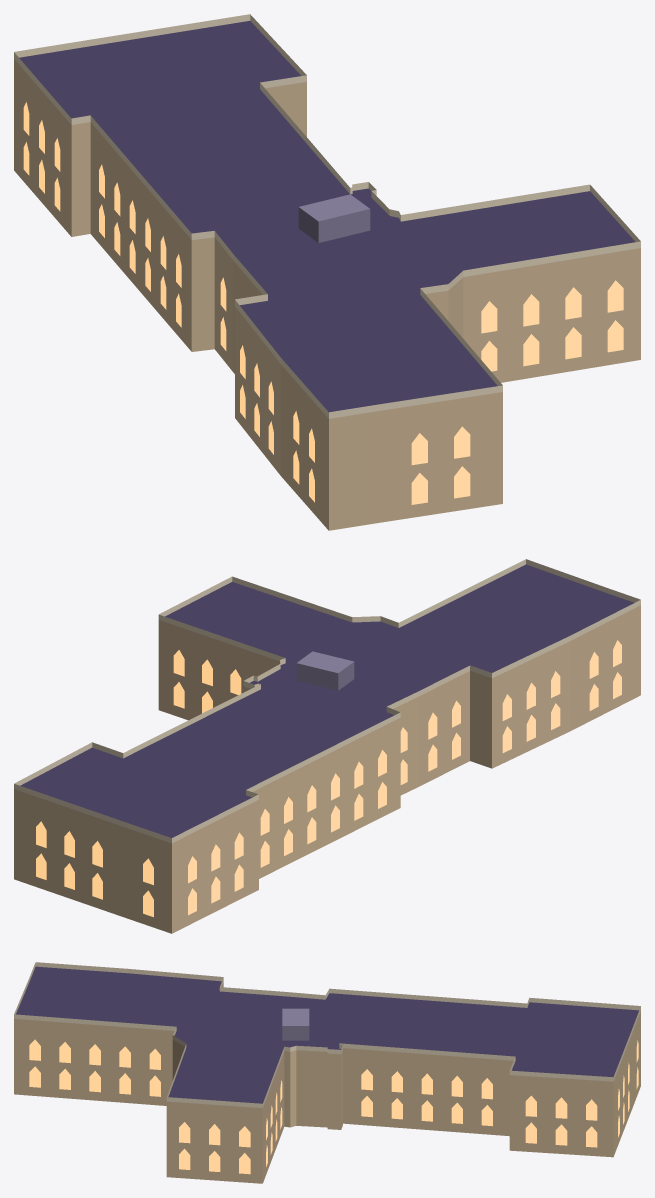
3 views of the same model, one above another, from view 1: azimuth 30°, elevation 25°; view 2: azimuth 150°, elevation 25°; view 3: azimuth 270°, elevation 25° (orthographic). The views are drawn at different scales.
Visible parts, largest first — view 1: campus/b-026-0; view 2: campus/b-026-0; view 3: campus/b-026-0.
Boxes of the visible parts, box(x1,y1,x2,y2) form: campus/b-026-0: box(14, 14, 640, 530); campus/b-026-0: box(14, 559, 640, 933); campus/b-026-0: box(14, 962, 640, 1183).
Bounding box in the file's own units: 37.34 × 11.1 × 69.88.
